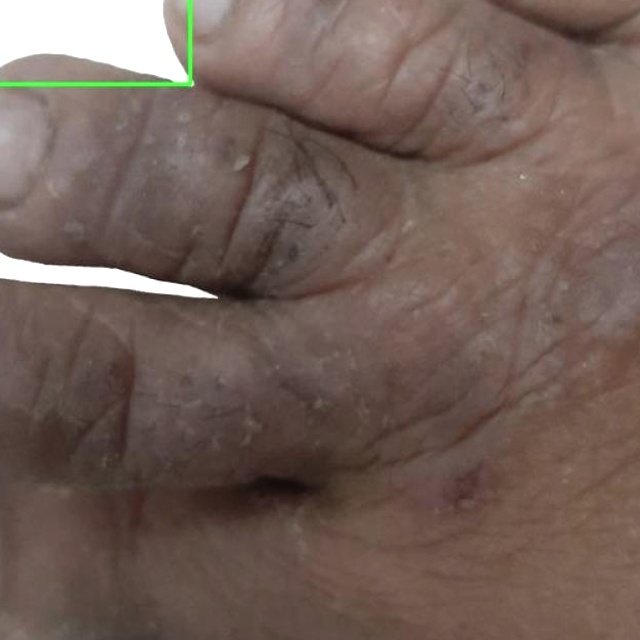Eczema: (0, 0, 190, 84)
